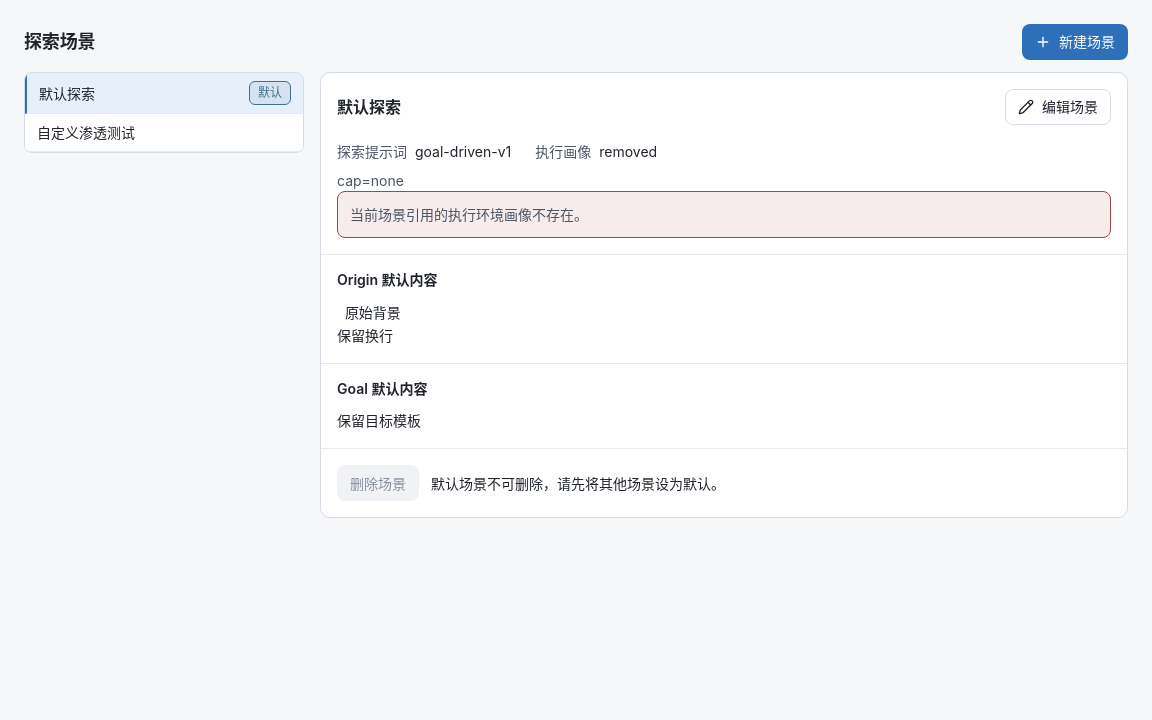
Test: 探索场景阅读与弹窗草稿 › 保留探索 Prompt 角色过滤与失效画像 removed 的保存阻断
Step 1. Click the button "编辑场景" → click(1058, 107), box top-left (1005, 89), bottom-right (1111, 125)
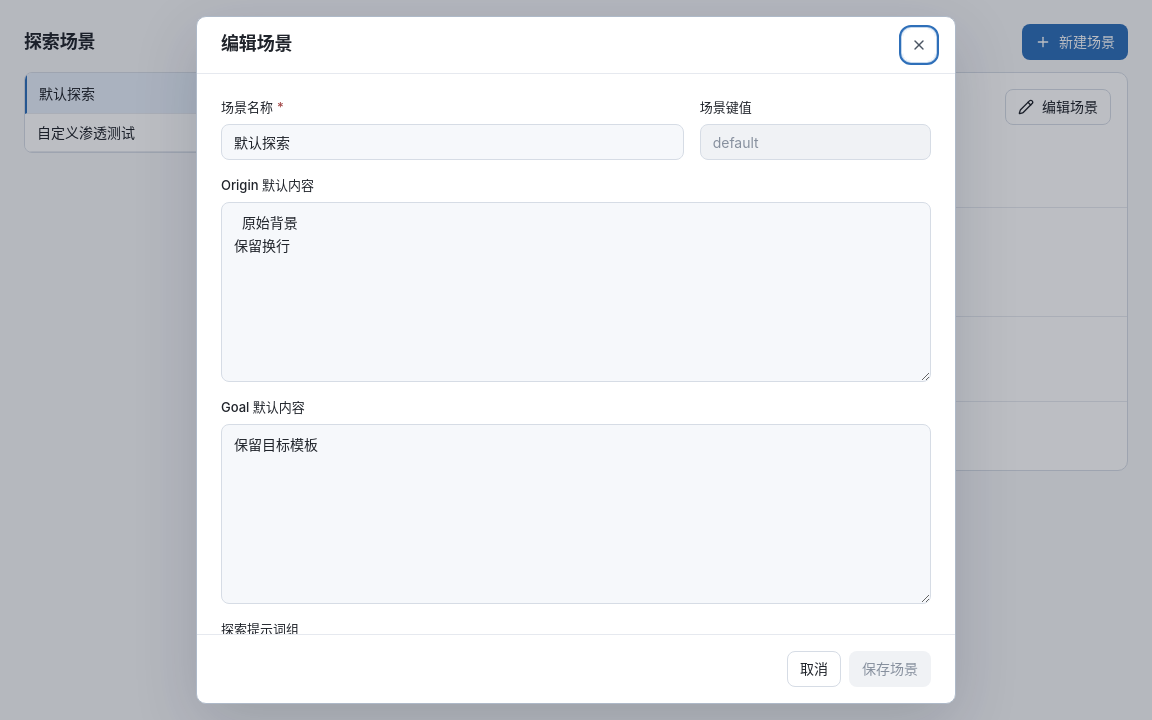
Expected: the button "保存场景" is disabled, top-left (849, 651), bottom-right (931, 687)
